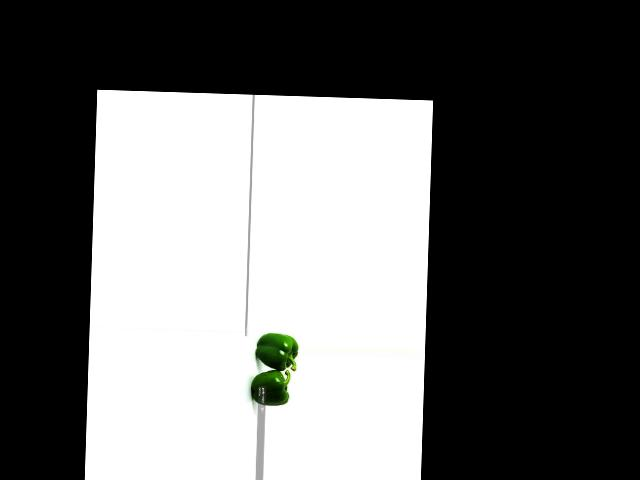bell_pepper: (249, 332, 301, 370)
